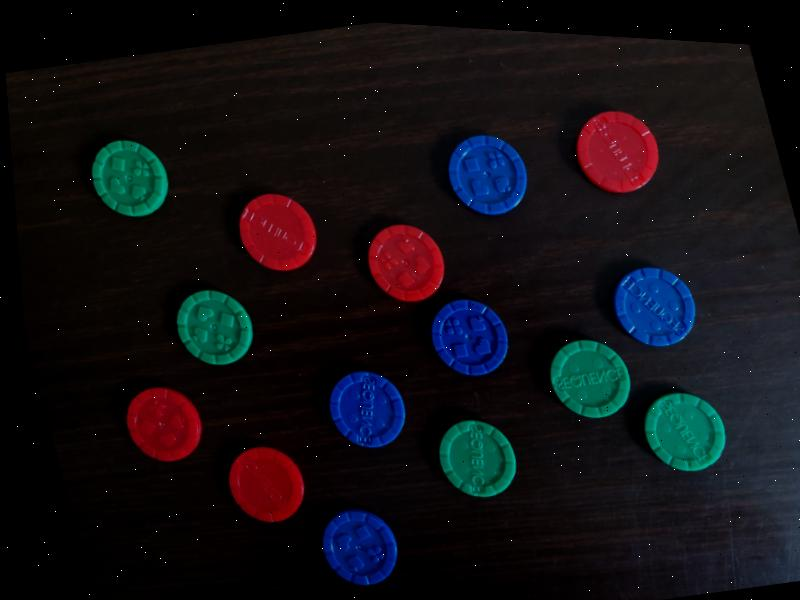Blue_Token: (595, 249, 712, 363), (310, 350, 423, 463), (430, 119, 542, 231), (301, 493, 418, 600), (416, 283, 524, 391)
Green_Token: (531, 323, 647, 435), (419, 404, 534, 514), (627, 378, 741, 487), (157, 275, 270, 380), (75, 124, 183, 230)
Red_Token: (554, 92, 676, 209), (352, 206, 464, 317), (220, 175, 332, 286), (213, 428, 325, 535), (111, 371, 217, 475)
